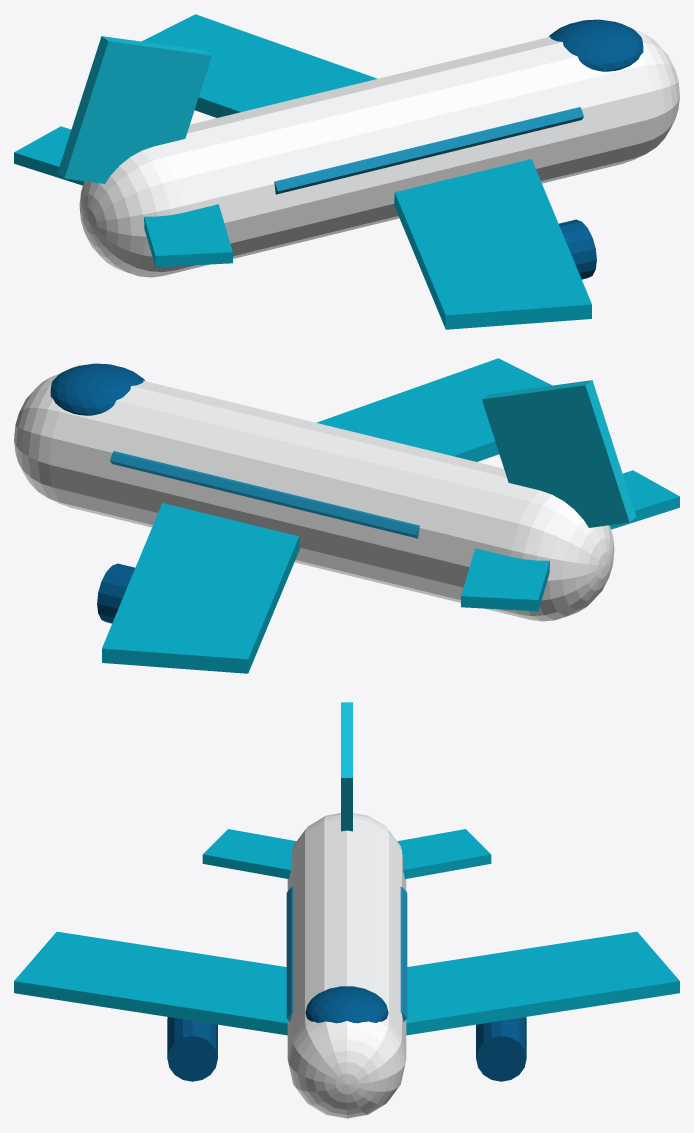
The model's file is travel-icon-plane.glb.
3 views of the same model, one above another, from view 1: azimuth 30°, elevation 25°; view 2: azimuth 150°, elevation 25°; view 3: azimuth 270°, elevation 25° (orthographic). The views are drawn at different scales.
Visible parts, largest first — view 1: plane_fuselage, plane_wing_right, plane_tail_fin, plane_wing_left, plane_stabiliser_right, plane_window_stripe, plane_cockpit, plane_stabiliser_left, plane_engine_right; view 2: plane_fuselage, plane_wing_left, plane_tail_fin, plane_wing_right, plane_stabiliser_left, plane_window_stripe, plane_cockpit, plane_stabiliser_right, plane_engine_left; view 3: plane_fuselage, plane_wing_left, plane_wing_right, plane_stabiliser_left, plane_stabiliser_right, plane_engine_left, plane_engine_right, plane_cockpit, plane_window_stripe, plane_tail_fin.
Part boxes in pixels (x1,y1,x2,y2): plane_fuselage: [79, 29, 679, 277]; plane_wing_right: [394, 159, 591, 329]; plane_tail_fin: [57, 36, 211, 183]; plane_wing_left: [141, 14, 377, 117]; plane_stabiliser_right: [144, 204, 232, 267]; plane_window_stripe: [274, 107, 583, 194]; plane_cockpit: [549, 19, 643, 71]; plane_stabiliser_left: [14, 126, 84, 185]; plane_engine_right: [559, 219, 596, 279]; plane_fuselage: [14, 373, 614, 621]; plane_wing_left: [102, 503, 299, 673]; plane_tail_fin: [482, 380, 636, 527]; plane_wing_right: [316, 358, 552, 461]; plane_stabiliser_left: [461, 548, 549, 611]; plane_window_stripe: [110, 451, 419, 538]; plane_cockpit: [50, 363, 144, 415]; plane_stabiliser_right: [609, 470, 679, 529]; plane_engine_left: [97, 563, 134, 623]; plane_fuselage: [287, 813, 406, 1118]; plane_wing_left: [406, 931, 679, 1035]; plane_wing_right: [14, 931, 287, 1035]; plane_stabiliser_left: [397, 829, 491, 878]; plane_stabiliser_right: [202, 829, 296, 878]; plane_engine_left: [476, 1017, 526, 1081]; plane_engine_right: [167, 1017, 217, 1081]; plane_cockpit: [305, 986, 388, 1023]; plane_window_stripe: [286, 887, 407, 1021]; plane_tail_fin: [341, 702, 352, 831].
Size of the model in its own units: 1.99 by 0.824 by 2.24.
